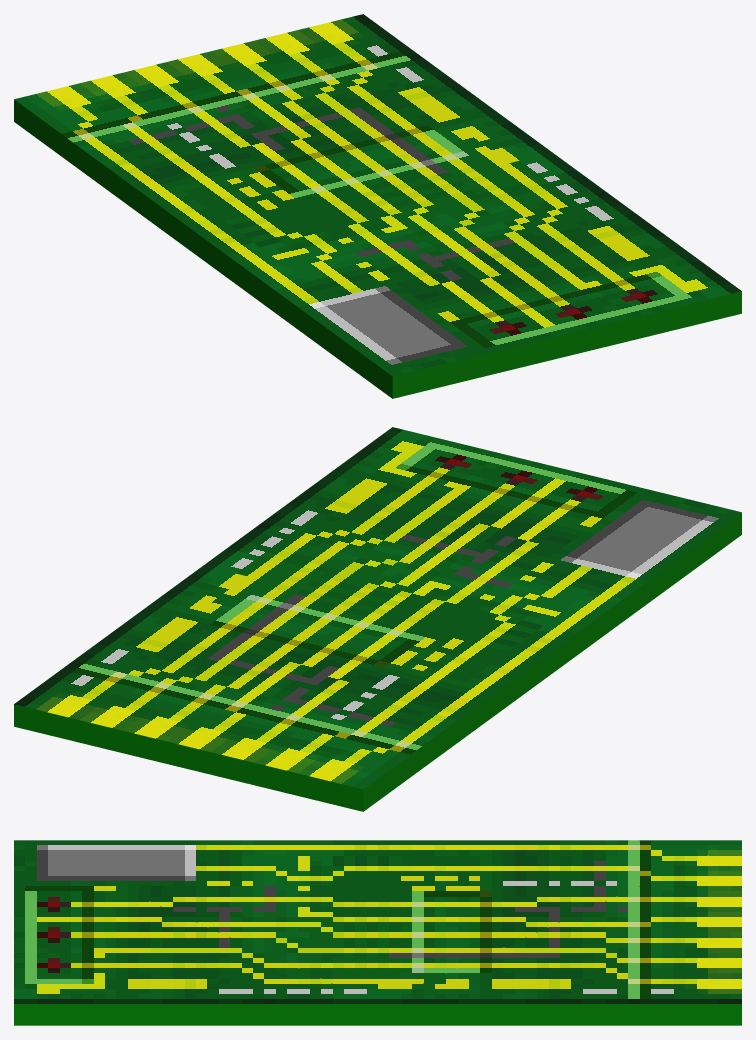
File: primary_068.glb
The picture shows the model from 3 angles, top to bottom: view 1: azimuth 30°, elevation 25°; view 2: azimuth 150°, elevation 25°; view 3: azimuth 270°, elevation 25°; orthographic projection. The views are drawn at different scales.
Parts seen in each view (by area): view 1: Object; view 2: Object; view 3: Object.
Boxes of the visible parts, <box> form: Object: <box>14,14,741,398</box>; Object: <box>14,427,741,811</box>; Object: <box>14,840,741,1025</box>.
Size of the model in its own units: 0.147 by 0.00905 by 0.276.
6 materials, 6 textured.
